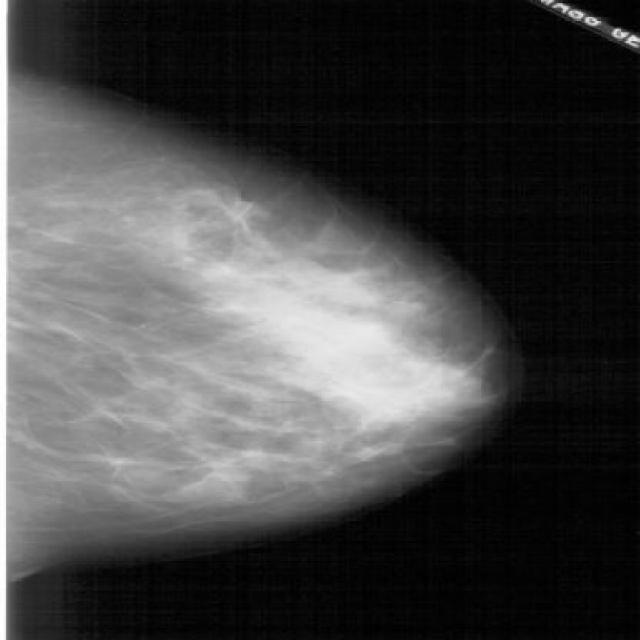tumor: (151, 195, 504, 476)
